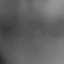MouthFatigue: (1, 11, 64, 50)
